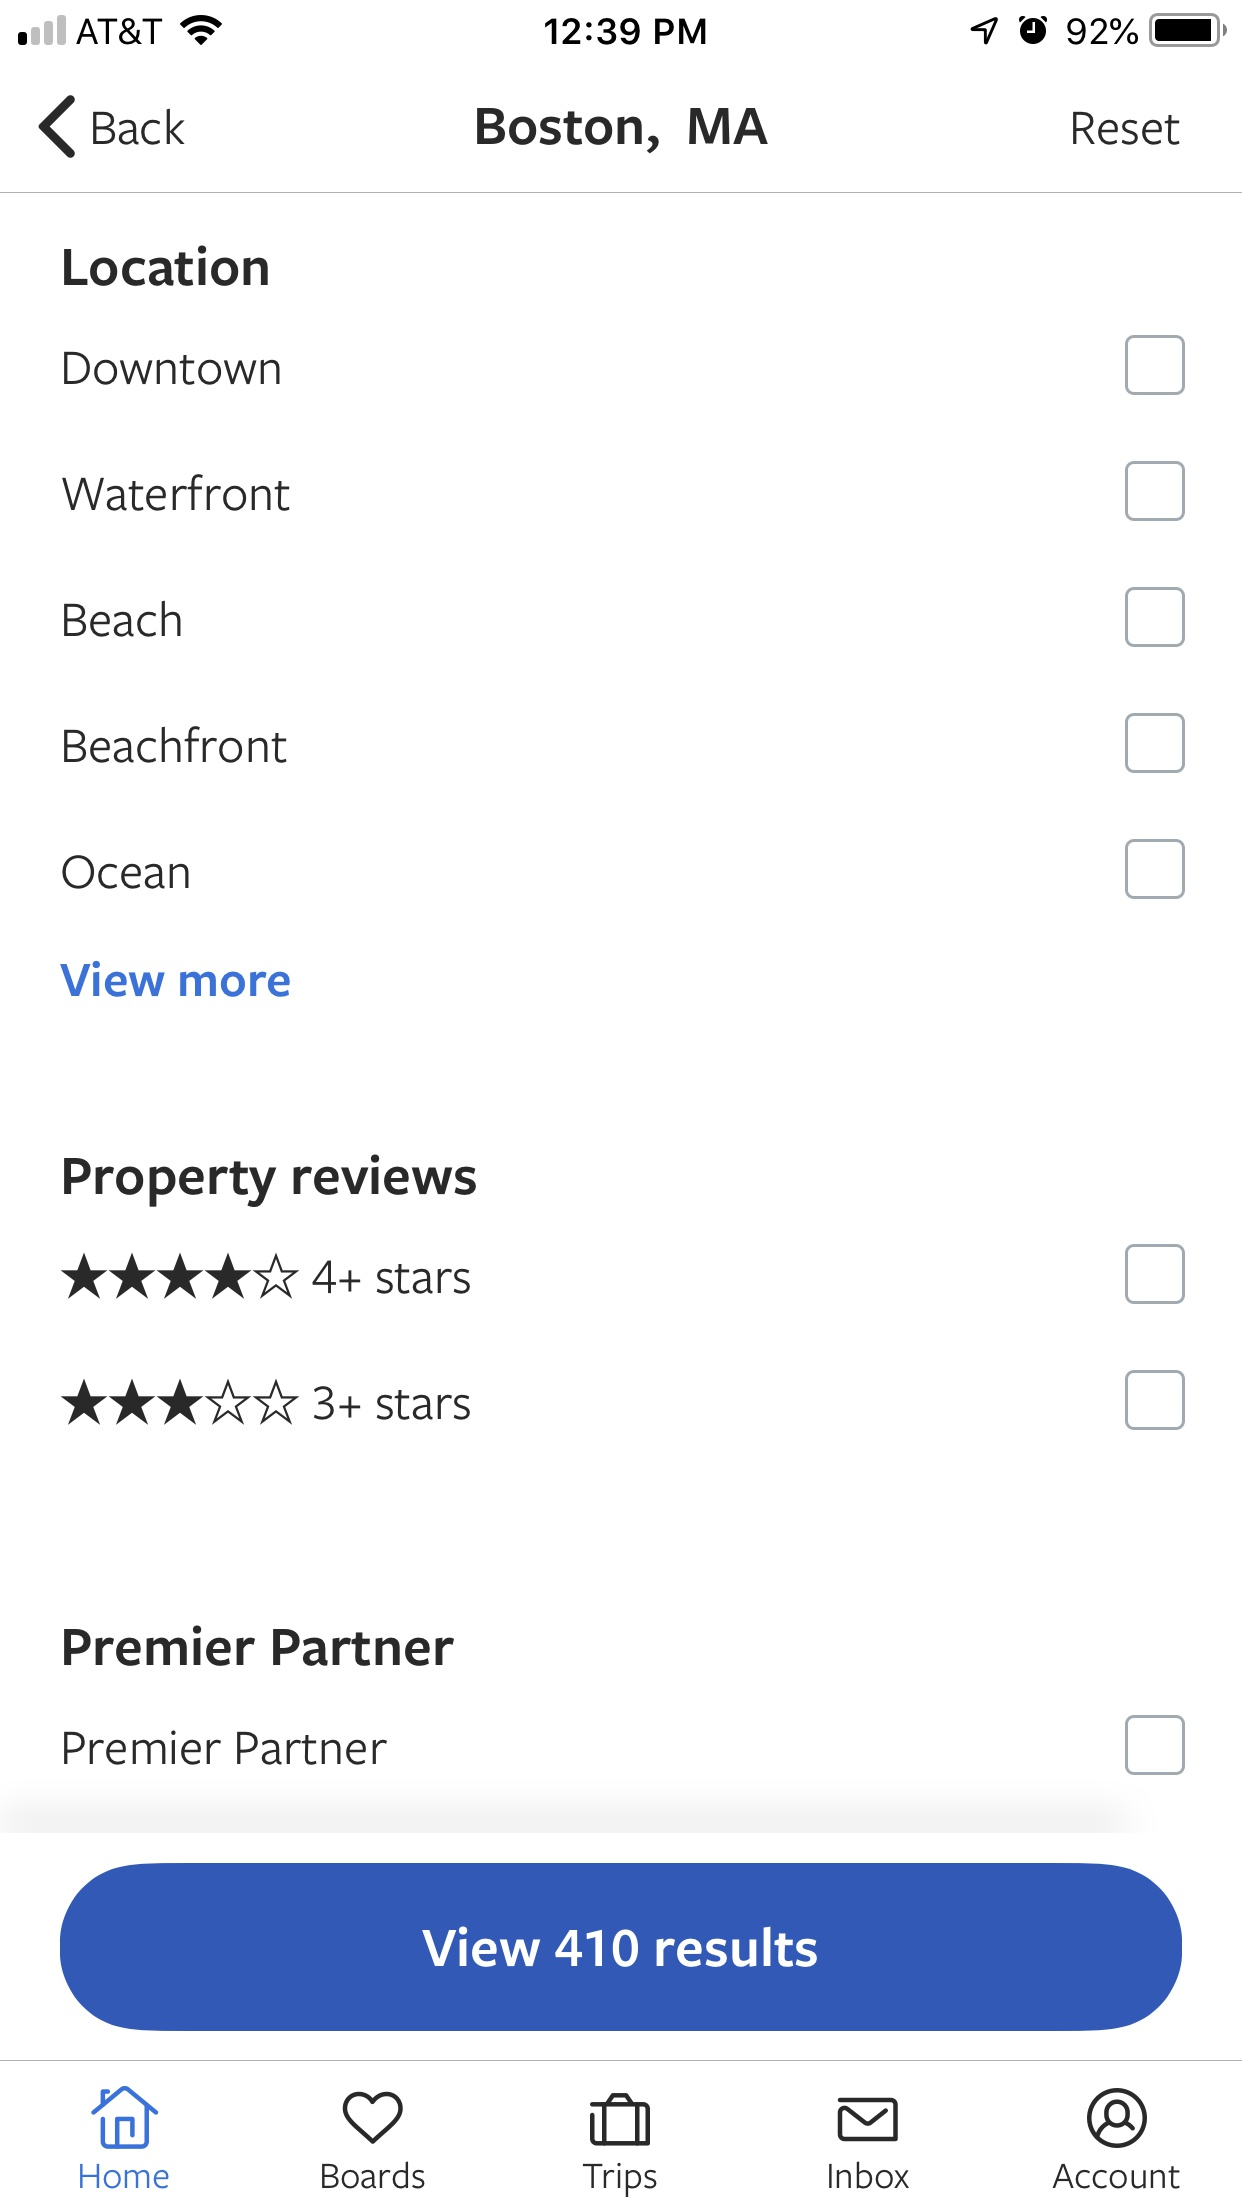CheckedTextView: (61, 1244, 1186, 1306), (61, 1369, 1184, 1432), (62, 461, 1186, 522), (62, 839, 1186, 899), (64, 335, 1186, 396), (64, 713, 1186, 773), (64, 1715, 1186, 1776), (64, 587, 1184, 648)
Icon: (61, 1253, 300, 1301), (61, 1378, 300, 1425), (93, 2085, 161, 2150), (1086, 2087, 1148, 2149), (588, 2093, 651, 2147), (343, 2090, 403, 2144), (837, 2096, 899, 2141), (38, 96, 76, 161)
Text: (64, 1153, 478, 1209), (64, 1624, 455, 1667), (478, 108, 769, 155), (64, 1729, 388, 1767), (64, 725, 288, 764), (64, 246, 268, 288), (62, 475, 291, 513), (61, 961, 291, 998), (64, 350, 281, 387), (312, 1259, 472, 1295), (314, 1385, 472, 1421), (62, 855, 191, 892), (64, 601, 182, 638), (1072, 111, 1180, 147), (93, 108, 187, 147), (1052, 2163, 1181, 2190), (321, 2161, 426, 2190), (582, 2163, 658, 2197), (80, 2163, 170, 2190), (828, 2161, 910, 2190)
TextButton: (61, 1862, 1183, 2032)
UpperTaskBar: (2, 2, 1242, 49)
